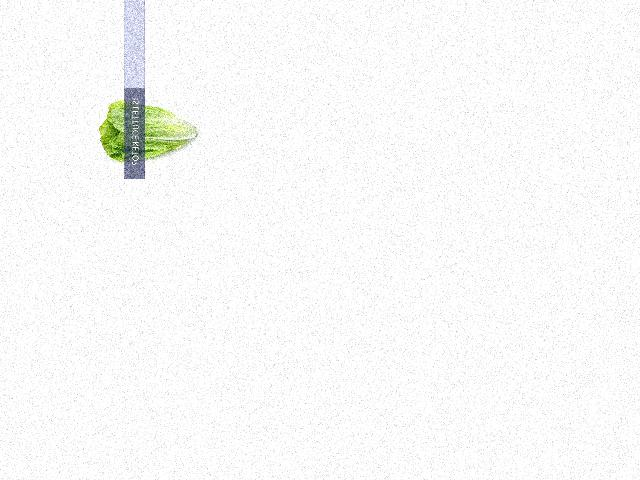lettuce: (99, 98, 206, 167)
